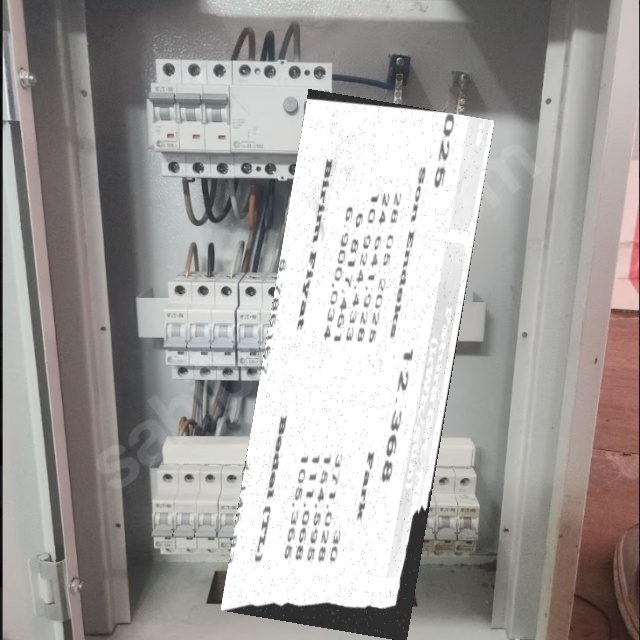electricity-bill: (220, 88, 495, 640)
